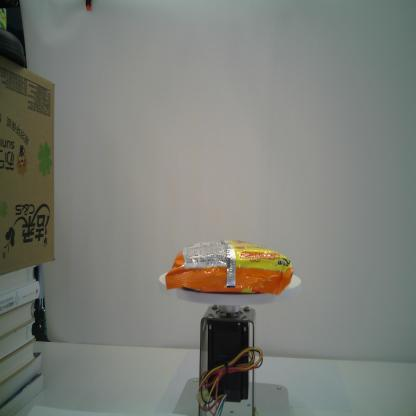Instant Noodles: (165, 238, 294, 297)
